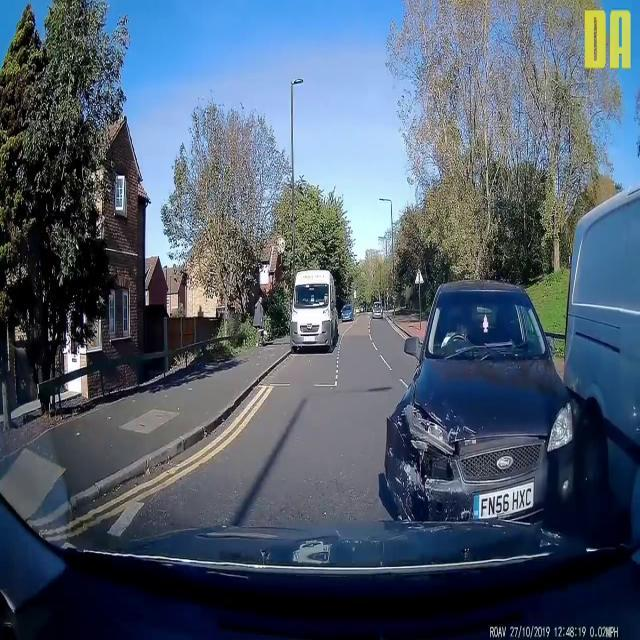multiple_accident: (356, 233, 640, 550)
